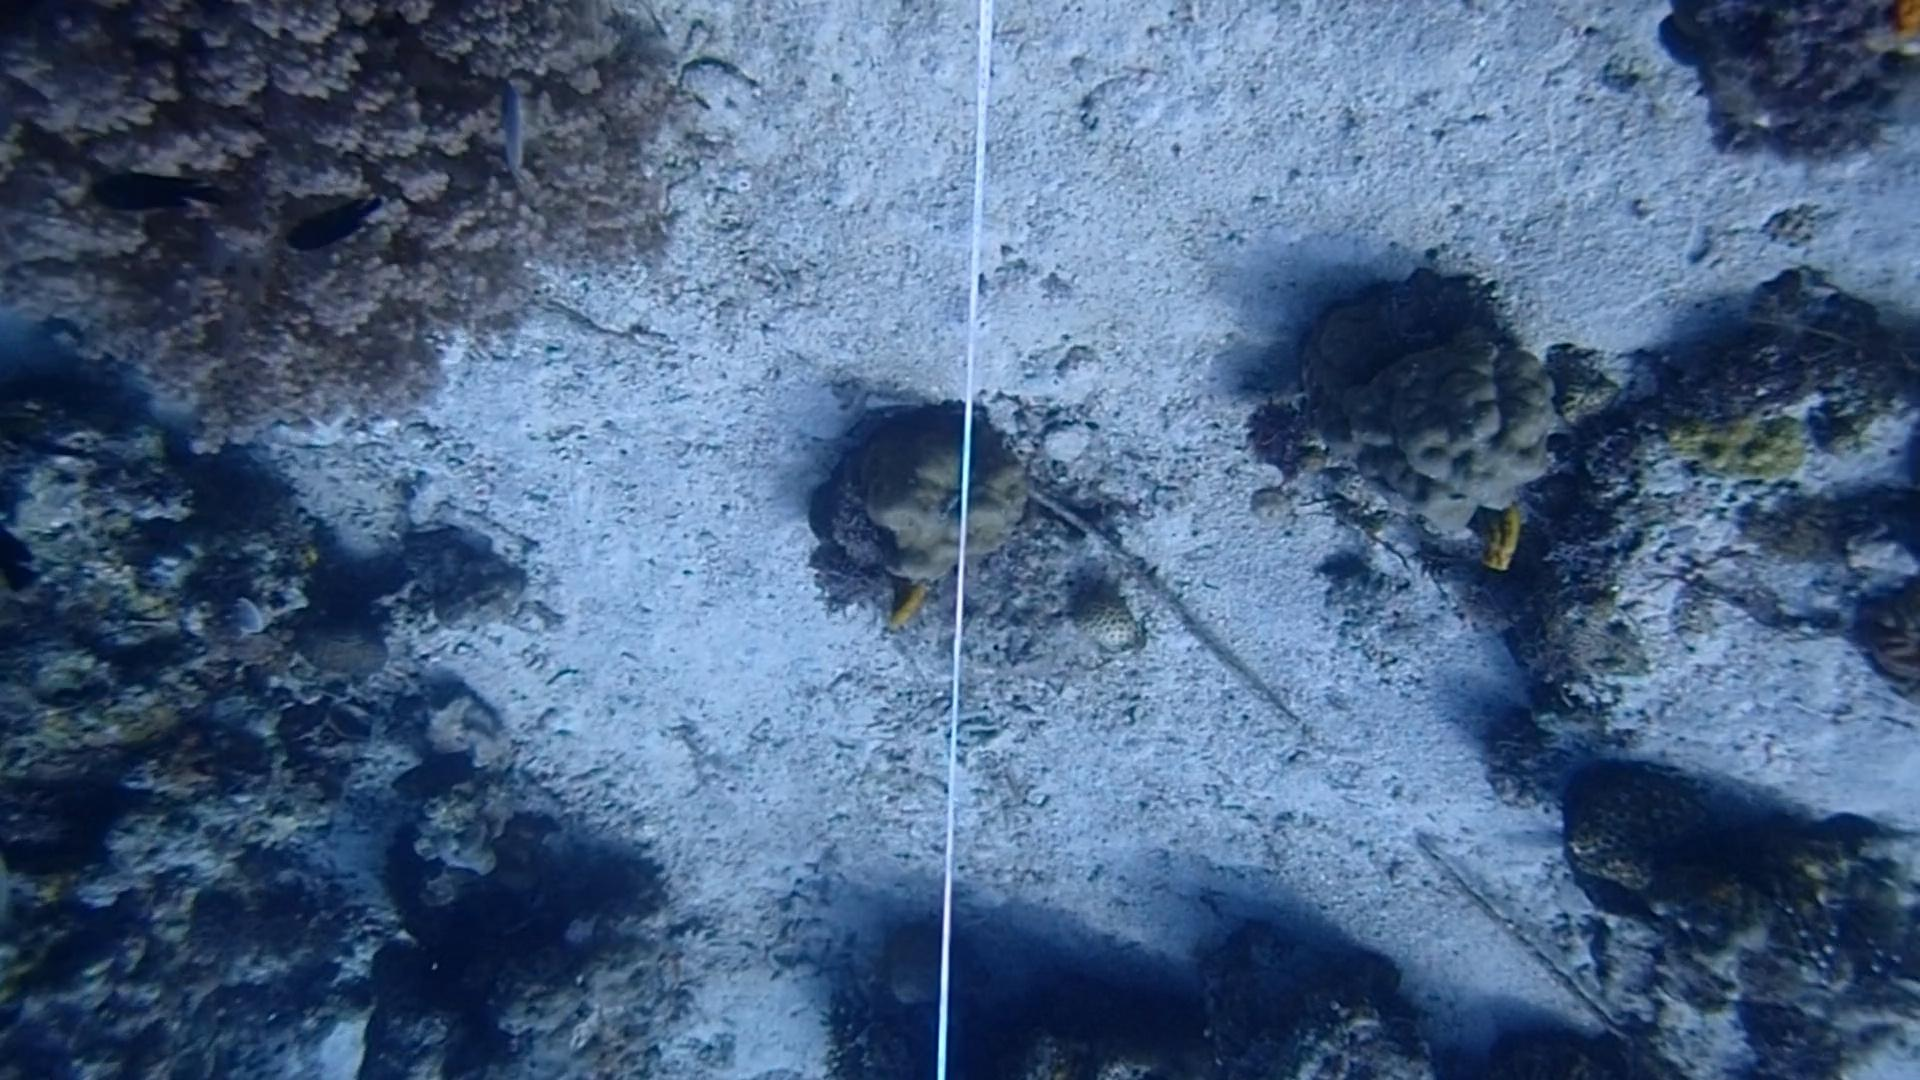Dark Fish: (278, 177, 382, 266), (99, 160, 223, 229)
Light Fish: (469, 82, 553, 204)
